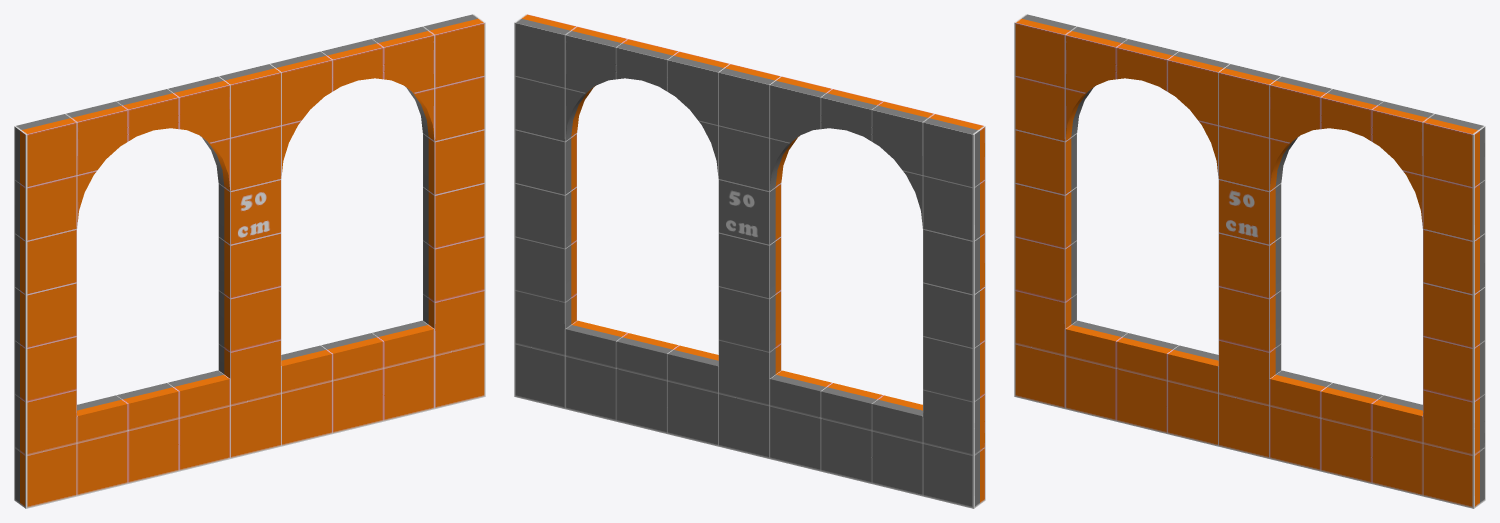
Rendered from M01WallWindowTypeH_2.FBX.
3 renders of one model, left to right at view 1: azimuth 30°, elevation 25°; view 2: azimuth 150°, elevation 25°; view 3: azimuth 330°, elevation 25°, orthographic.
Parts seen in each view (by area): view 1: M01WallWindowTypeH_2; view 2: M01WallWindowTypeH_2; view 3: M01WallWindowTypeH_2.
Boxes of the visible parts, x1=… form: M01WallWindowTypeH_2: x1=14, y1=14, x2=485, y2=508; M01WallWindowTypeH_2: x1=514, y1=14, x2=985, y2=508; M01WallWindowTypeH_2: x1=1014, y1=14, x2=1485, y2=508.
Size of what is drawn, in the model's own units: 4.5 by 3.5 by 0.2.
